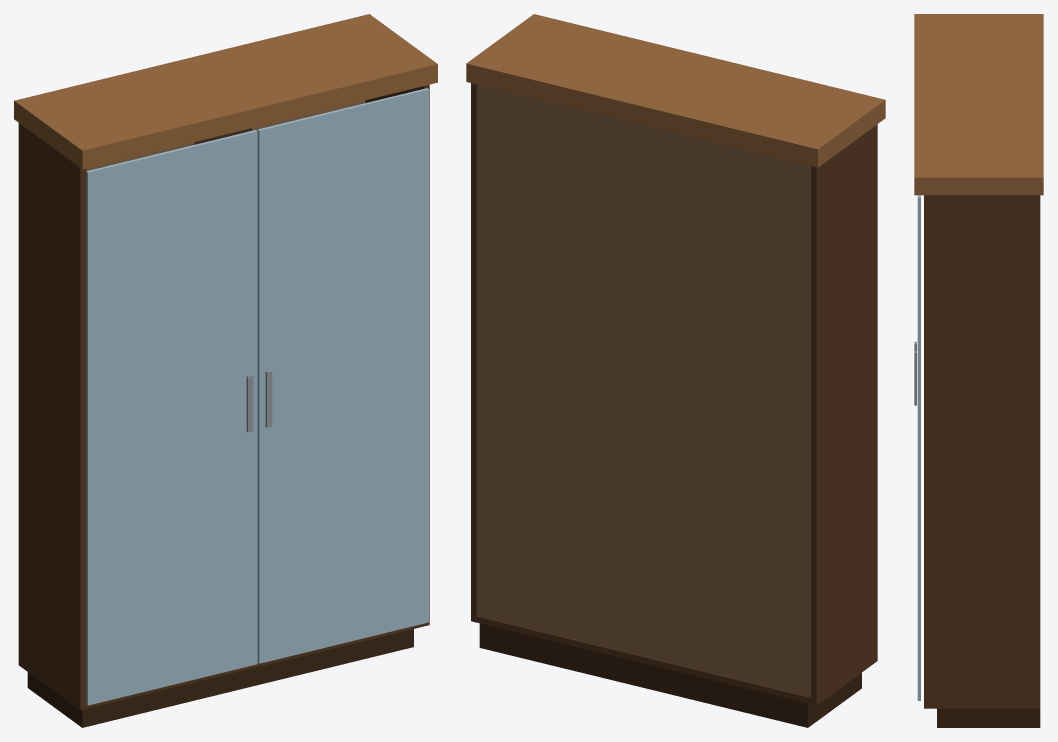
File: glasscabinet.glb
3 views of the same model, side by side, from view 1: azimuth 30°, elevation 25°; view 2: azimuth 150°, elevation 25°; view 3: azimuth 270°, elevation 25° (orthographic). The views are drawn at different scales.
Visible parts, largest first — view 1: material-1-glass, material-0-body, material-6-top, material-4-base, material-2-interior, material-5-metal; view 2: material-2-interior, material-0-body, material-6-top, material-4-base; view 3: material-0-body, material-6-top, material-4-base, material-1-glass.
Part boxes in pixels (left/top/right/bottom): material-1-glass: left=86, top=88, right=428, bottom=705; material-0-body: left=18, top=84, right=429, bottom=710; material-6-top: left=14, top=14, right=437, bottom=169; material-4-base: left=27, top=629, right=413, bottom=727; material-2-interior: left=86, top=100, right=365, bottom=171; material-5-metal: left=246, top=370, right=272, bottom=432; material-2-interior: left=477, top=84, right=810, bottom=697; material-0-body: left=471, top=83, right=877, bottom=705; material-6-top: left=466, top=14, right=885, bottom=167; material-4-base: left=479, top=623, right=861, bottom=727; material-0-body: left=924, top=195, right=1040, bottom=708; material-6-top: left=914, top=14, right=1043, bottom=195; material-4-base: left=937, top=708, right=1040, bottom=727; material-1-glass: left=917, top=195, right=920, bottom=700.
Size of the model in its own units: 1.2 by 1.9 by 0.4.
